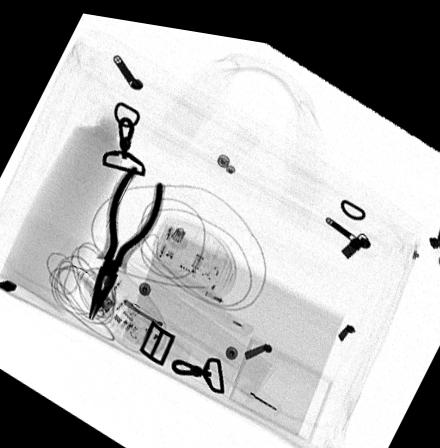Pliers: (87, 156, 164, 317)
